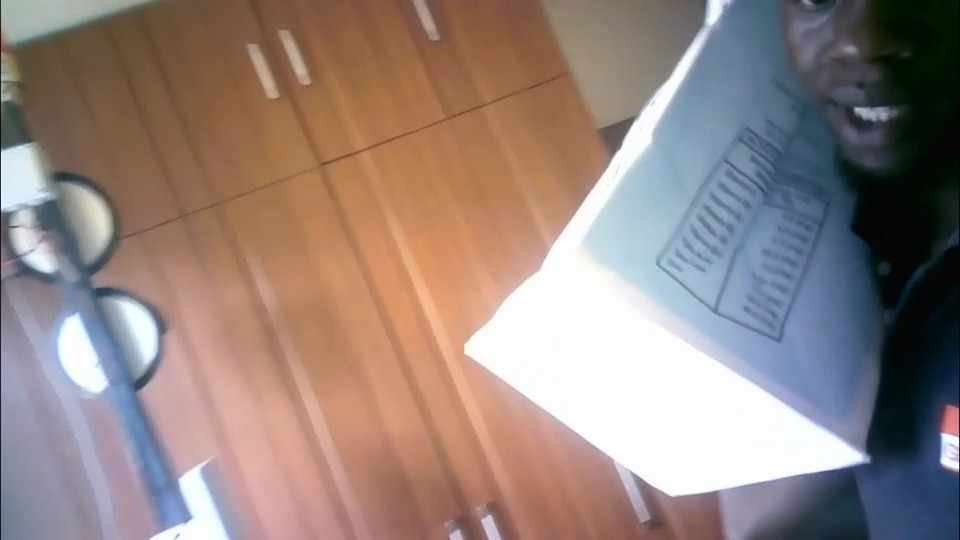wheat_flour_blue_label: (461, 0, 867, 481)
